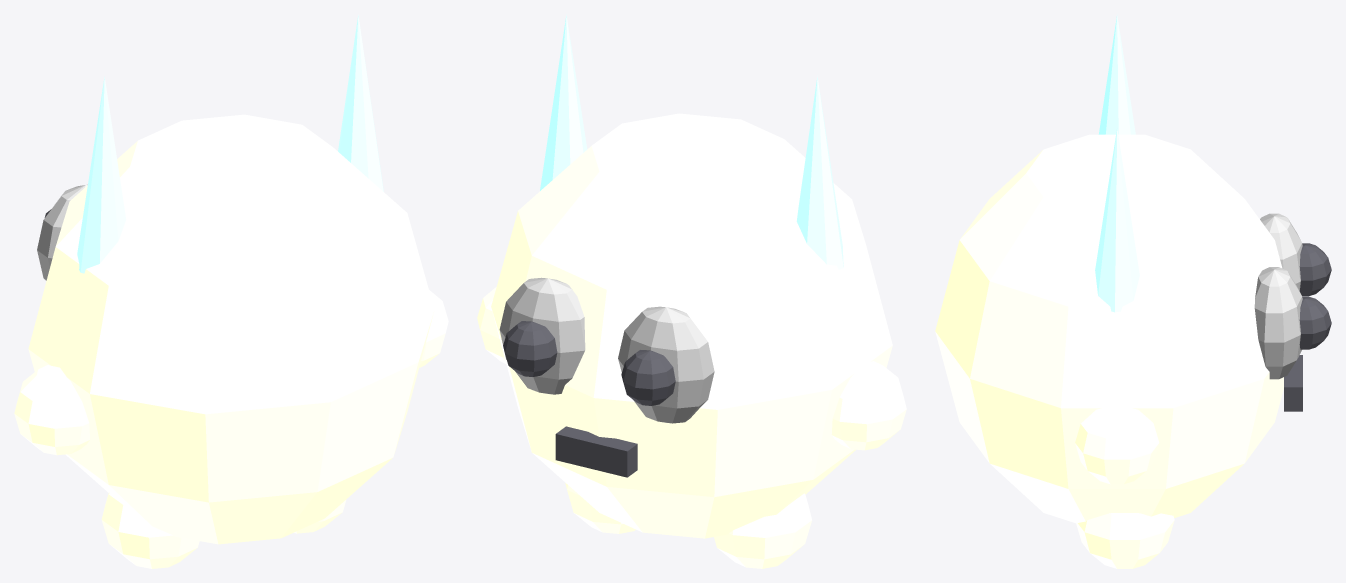
The model's file is electro_spirit.glb.
3 renders of one model, left to right at view 1: azimuth 30°, elevation 25°; view 2: azimuth 150°, elevation 25°; view 3: azimuth 270°, elevation 25°, orthographic. The views are drawn at different scales.
Parts seen in each view (by area): view 1: electro_spirit; view 2: electro_spirit; view 3: electro_spirit.
Boxes of the visible parts, x1,y1,x2,y2 form: electro_spirit: (14,15,448,568); electro_spirit: (477,14,906,568); electro_spirit: (935,14,1331,568).
Bounding box in the file's own units: 1.16 × 1.33 × 1.04.
